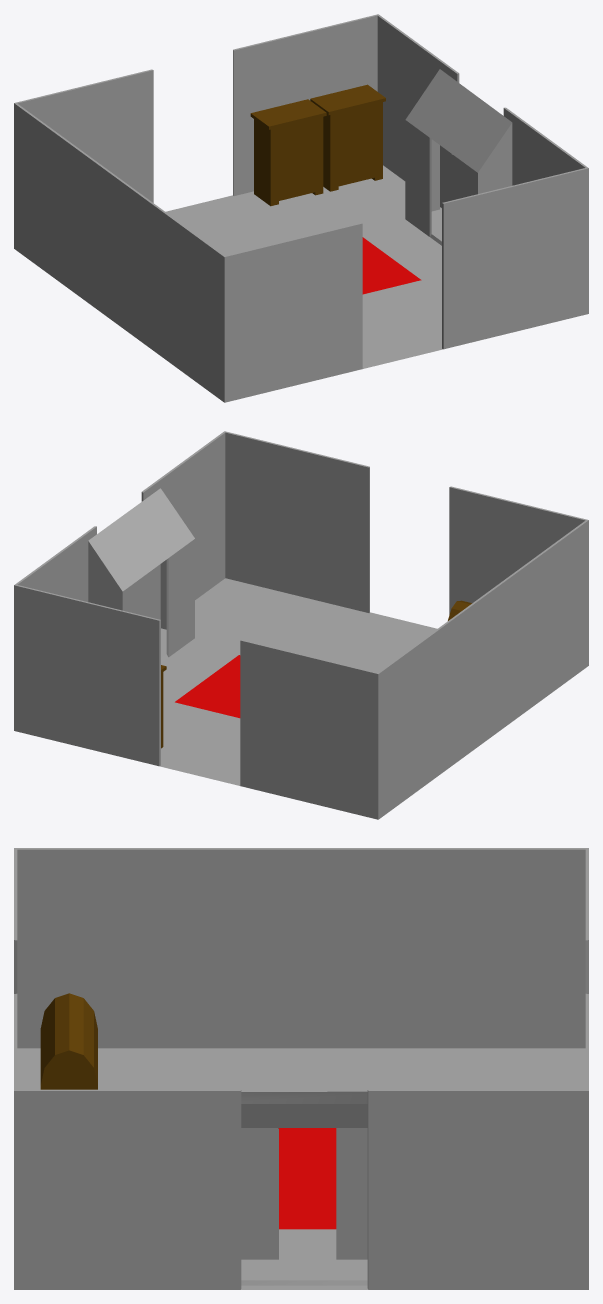
File: Coloured_room.fbx
3 renders of one model, top to bottom at view 1: azimuth 30°, elevation 25°; view 2: azimuth 150°, elevation 25°; view 3: azimuth 270°, elevation 25°, orthographic. The views are drawn at different scales.
Parts seen in each view (by area): view 1: polySurface1671; view 2: polySurface1671; view 3: polySurface1671.
Boxes of the visible parts, x1,y1,x2,y2 form: polySurface1671: (14, 14, 588, 402); polySurface1671: (14, 431, 588, 819); polySurface1671: (14, 848, 588, 1289).
Size of the model in its own units: 0.9711 by 0.3742 by 0.9716.
